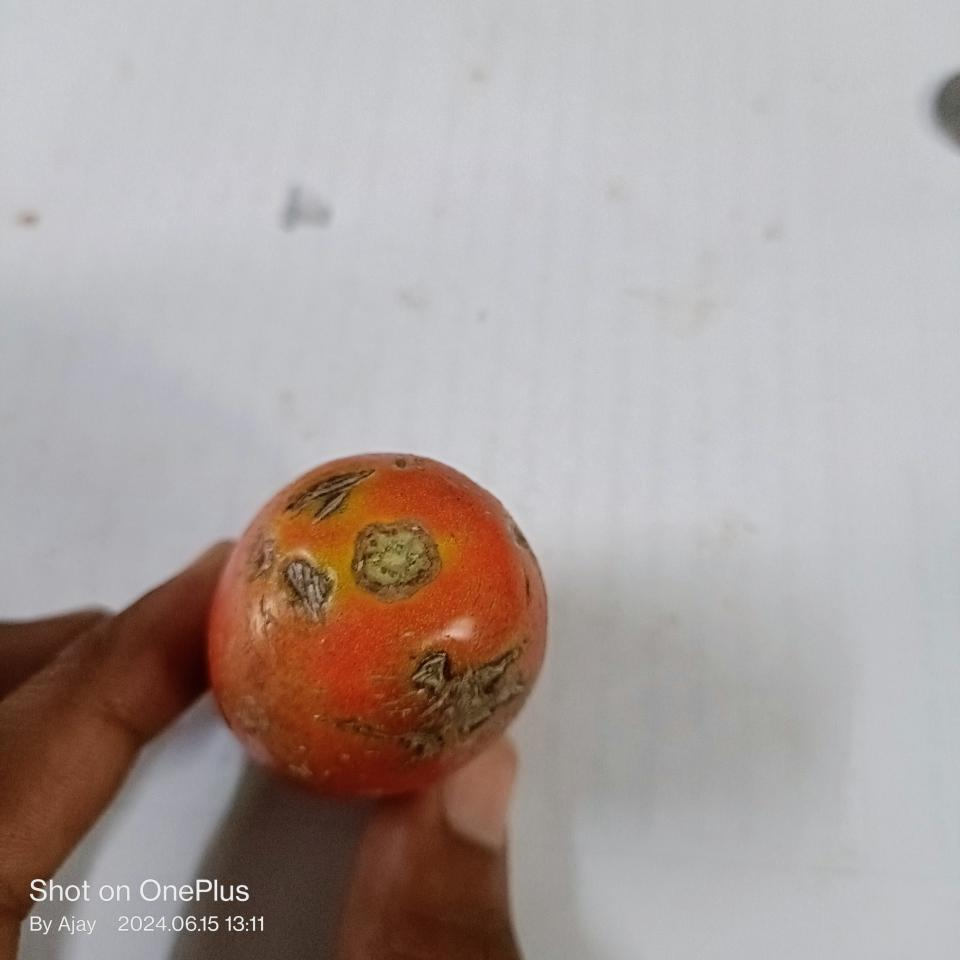Bacterial_Spot: (345, 642, 541, 757), (278, 462, 380, 526), (279, 552, 336, 612)
